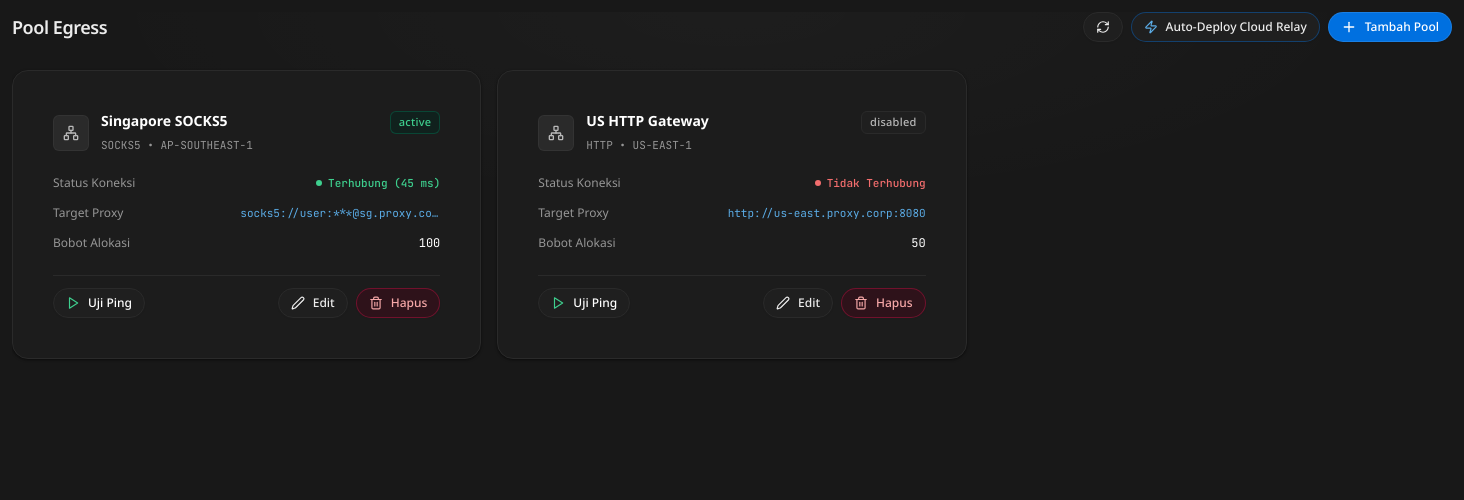
Test: Egress Page — Unit & Modular Decomposition Tests › menjalankan live probe ping test dan menampilkan banner EgressProbeFeedback
Check: the heading "Singapore SOCKS5" is shown, box [101,111,228,130]
# Klik tombol Uji Ping kartu pertama
Click the button "Uji Ping" below "socks5://user:***@sg.proxy.com:1080". click: {"x": 99, "y": 303}
box: [53,288,145,318]
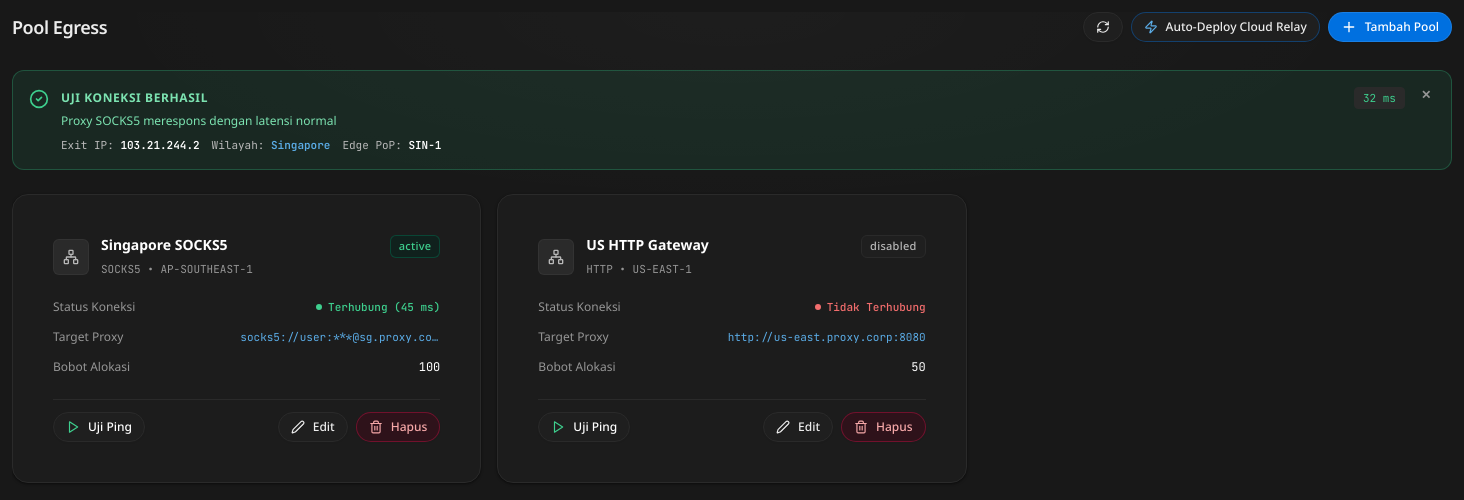
Check: the message is shown, box [12,70,1452,170]
Check: the text "Uji Koneksi Berhasil" is shown, box [61,90,208,106]
Check: the text "32 ms" is shown, box [1354,87,1405,109]
# Tombol tutup feedback dapat diklik
Click the button named "Tutup notifikasi". click: {"x": 1426, "y": 95}
box: [1417,87,1435,103]
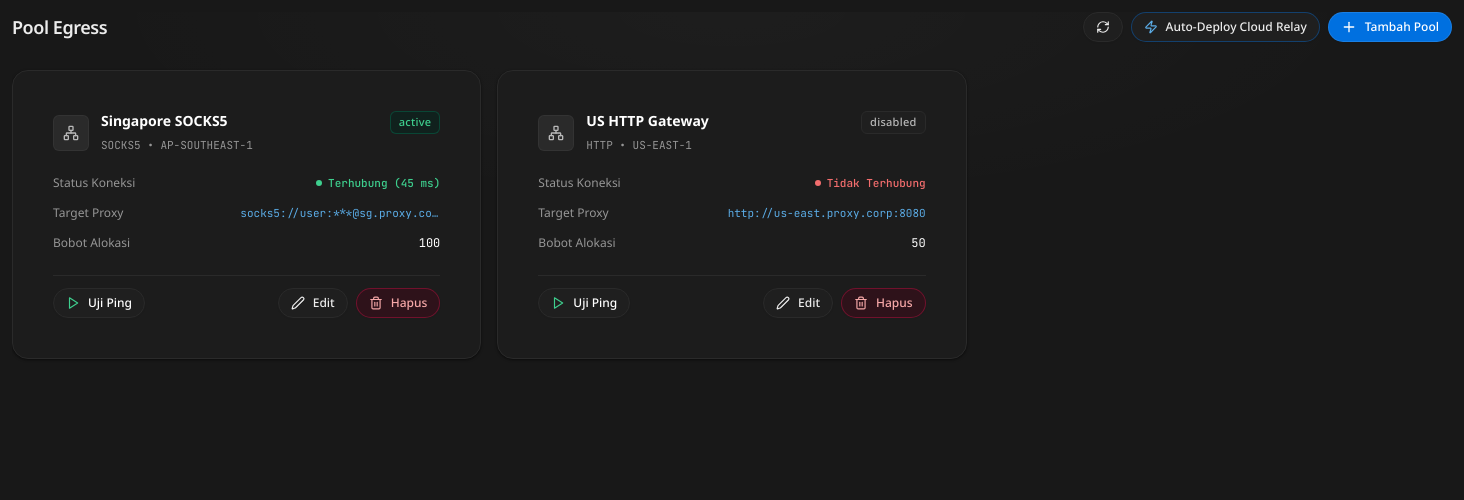
Check: the message is gone
